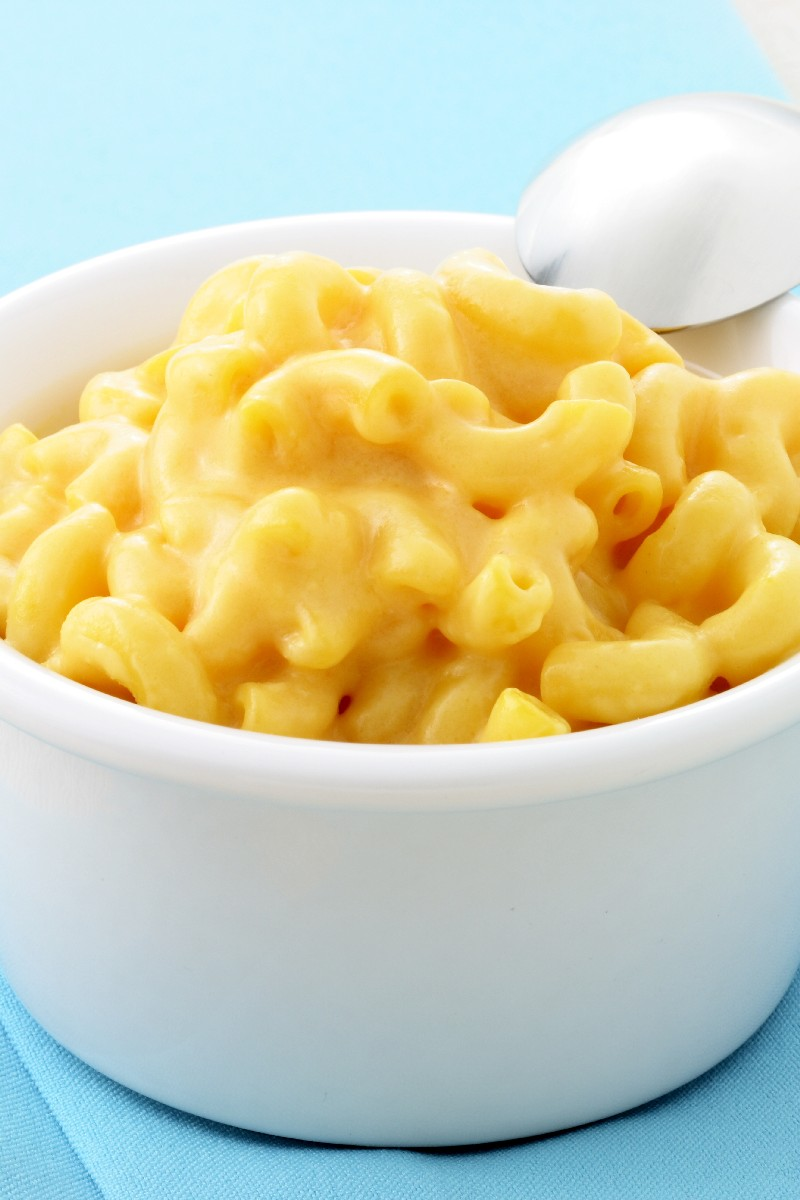macncheese: (1, 255, 800, 747)
